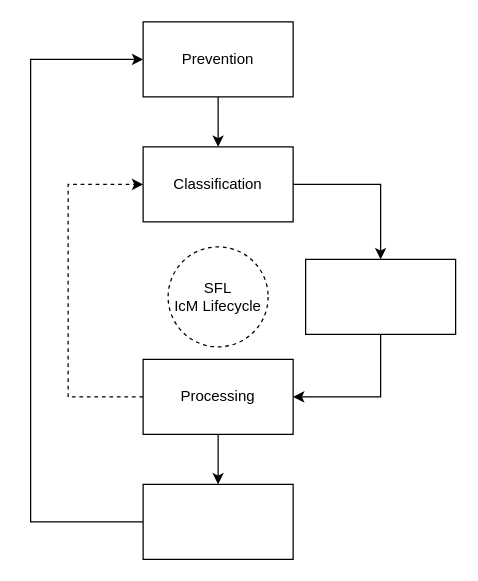
The diagram is 478 pixels wide and 581 high, and some of its shapes have lost their labels. Each missing label, with the box of its shape:
Reporting: (142, 483, 293, 559)
Triage: (304, 258, 456, 334)
